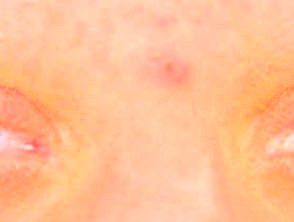SJS-TEN: (142, 41, 201, 100)
